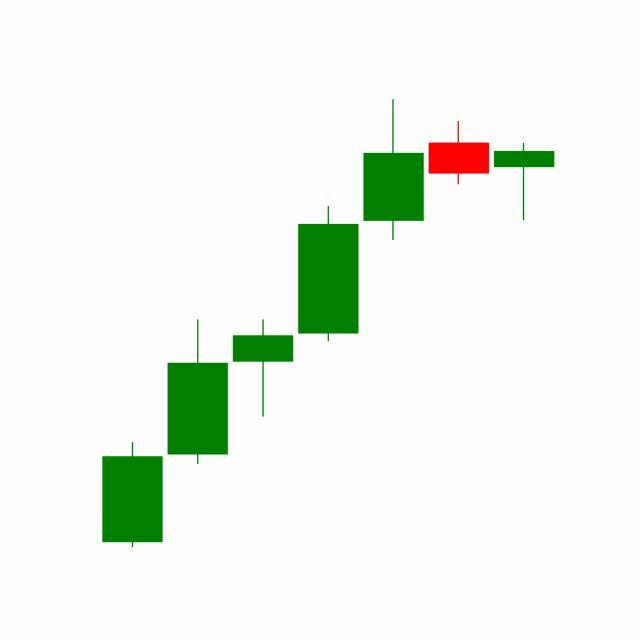Hikkake Pattern: (229, 100, 555, 422)
